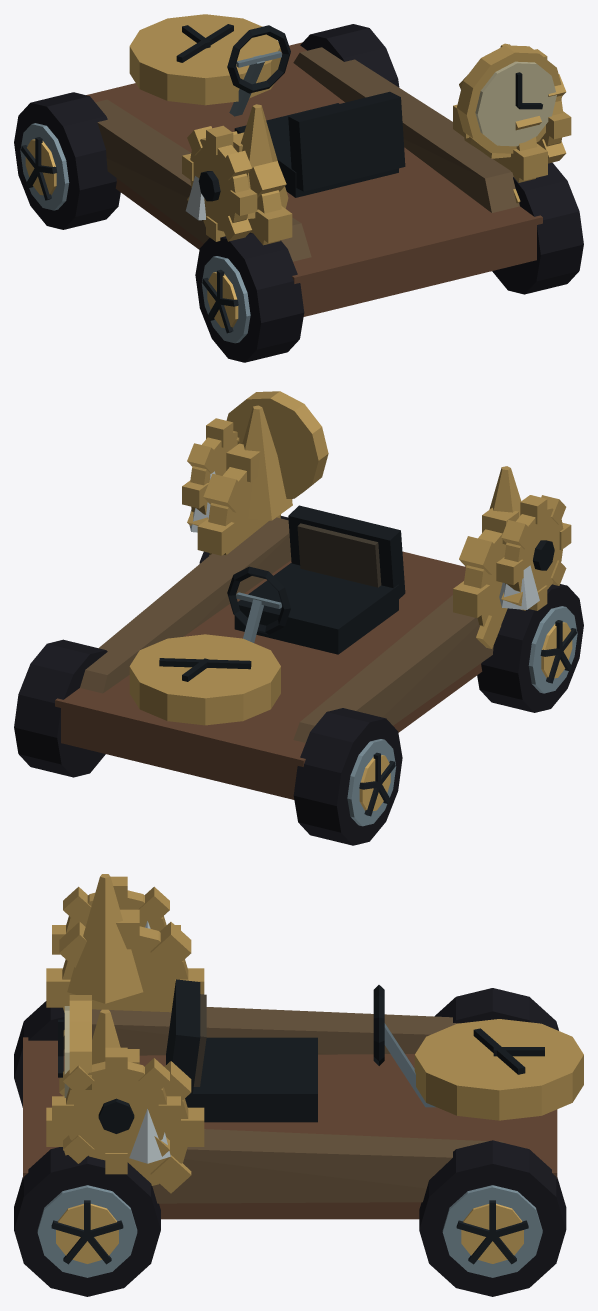
File: kart.glb
3 views of the same model, one above another, from view 1: azimuth 30°, elevation 25°; view 2: azimuth 150°, elevation 25°; view 3: azimuth 270°, elevation 25° (orthographic). The views are drawn at different scales.
Parts seen in each view (by area): view 1: identity-clockwork-clockwork-brass-escapement, identity-clockwork-driver-cockpit, wheel-rear-left, wheel-front-left, identity-clockwork-motif-clock, identity-clockwork-motif-gears, wheel-rear-right, wheel-front-right, identity-clockwork-motif-crystals; view 2: identity-clockwork-clockwork-brass-escapement, identity-clockwork-driver-cockpit, wheel-front-left, wheel-rear-left, identity-clockwork-motif-gears, wheel-front-right, identity-clockwork-motif-clock, identity-clockwork-motif-crystals; view 3: identity-clockwork-clockwork-brass-escapement, wheel-front-right, wheel-rear-right, identity-clockwork-driver-cockpit, identity-clockwork-motif-gears, identity-clockwork-motif-crystals, wheel-front-left, identity-clockwork-motif-clock, wheel-rear-left.
Part boxes in pixels (box(x1,y1,x2,y2)): identity-clockwork-clockwork-brass-escapement: box(86, 14, 547, 316); identity-clockwork-driver-cockpit: box(227, 25, 405, 197); wheel-rear-left: box(195, 232, 304, 362); wheel-front-left: box(14, 92, 120, 229); identity-clockwork-motif-clock: box(456, 45, 562, 153); identity-clockwork-motif-gears: box(182, 49, 571, 241); wheel-rear-right: box(492, 162, 583, 294); wheel-front-right: box(300, 24, 399, 87); identity-clockwork-motif-crystals: box(185, 43, 510, 220); identity-clockwork-clockwork-brass-escapement: box(55, 443, 518, 799); identity-clockwork-driver-cockpit: box(227, 505, 405, 654); wheel-front-left: box(293, 708, 402, 845); wheel-rear-left: box(477, 584, 583, 712); identity-clockwork-motif-gears: box(182, 418, 571, 610); wheel-front-right: box(14, 639, 107, 777); identity-clockwork-motif-clock: box(226, 391, 328, 498); identity-clockwork-motif-crystals: box(189, 405, 539, 609); identity-clockwork-clockwork-brass-escapement: box(23, 909, 583, 1219); wheel-front-right: box(419, 1140, 566, 1296); wheel-rear-right: box(14, 1147, 160, 1296); identity-clockwork-driver-cockpit: box(166, 979, 435, 1122); identity-clockwork-motif-gears: box(52, 876, 180, 1174); identity-clockwork-motif-crystals: box(67, 874, 170, 1163); wheel-front-left: box(434, 988, 558, 1030); identity-clockwork-motif-clock: box(58, 995, 91, 1097); wheel-rear-left: box(14, 1001, 64, 1107).
Size of the model in its own units: 2 by 1.35 by 2.56.
